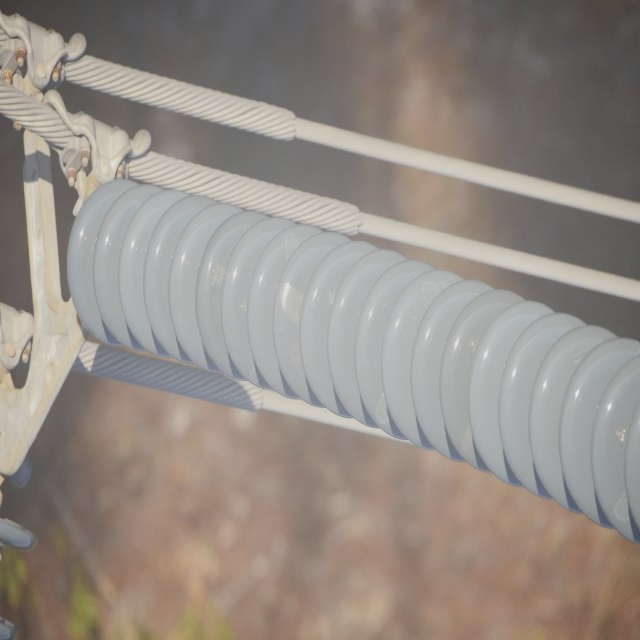insulator: (65, 178, 640, 546)
